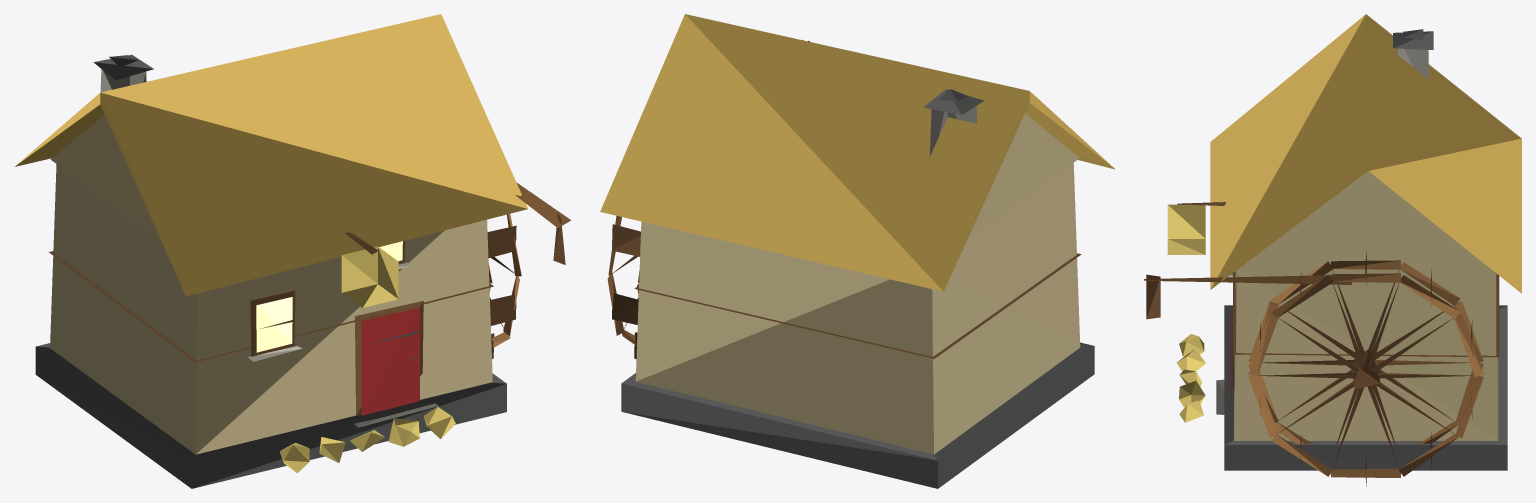
File: mill_water_lod1.glb
3 renders of one model, left to right at view 1: azimuth 30°, elevation 25°; view 2: azimuth 150°, elevation 25°; view 3: azimuth 270°, elevation 25°, orthographic. The views are drawn at different scales.
Parts seen in each view (by area): view 1: mill_water_lod1; view 2: mill_water_lod1; view 3: mill_water_lod1.
Boxes of the visible parts, x1,y1,x2,y2 form: mill_water_lod1: (15, 14, 571, 488); mill_water_lod1: (600, 14, 1115, 488); mill_water_lod1: (1144, 14, 1521, 486).
Bounding box in the file's own units: 8.2 × 7.46 × 8.
